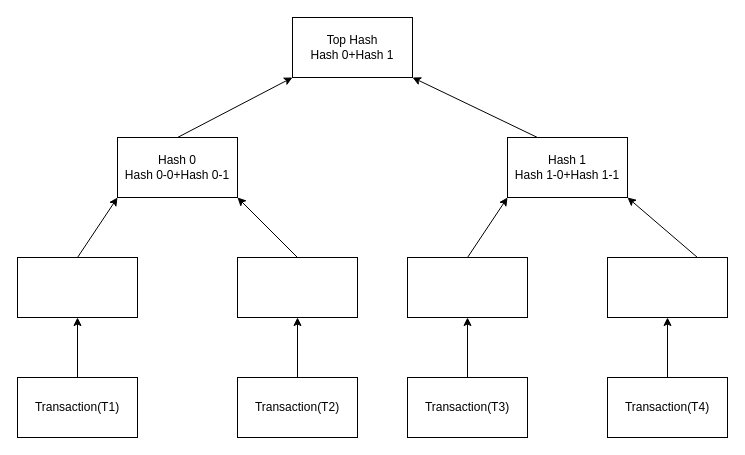
This 745x455 diagram has some shape labels left out. The shapes that lost their labels are listed below. From the top down, each one's centre as x and y in pixels, then its label:
At point (77, 287): "Hash 0-0 Hash (T1)".
At point (297, 287): "Hash 0-1 Hash(T2)".
At point (467, 287): "Hash 1-0 Hash (T3)".
At point (667, 287): "Hash 1-1 Hash (T4)".
